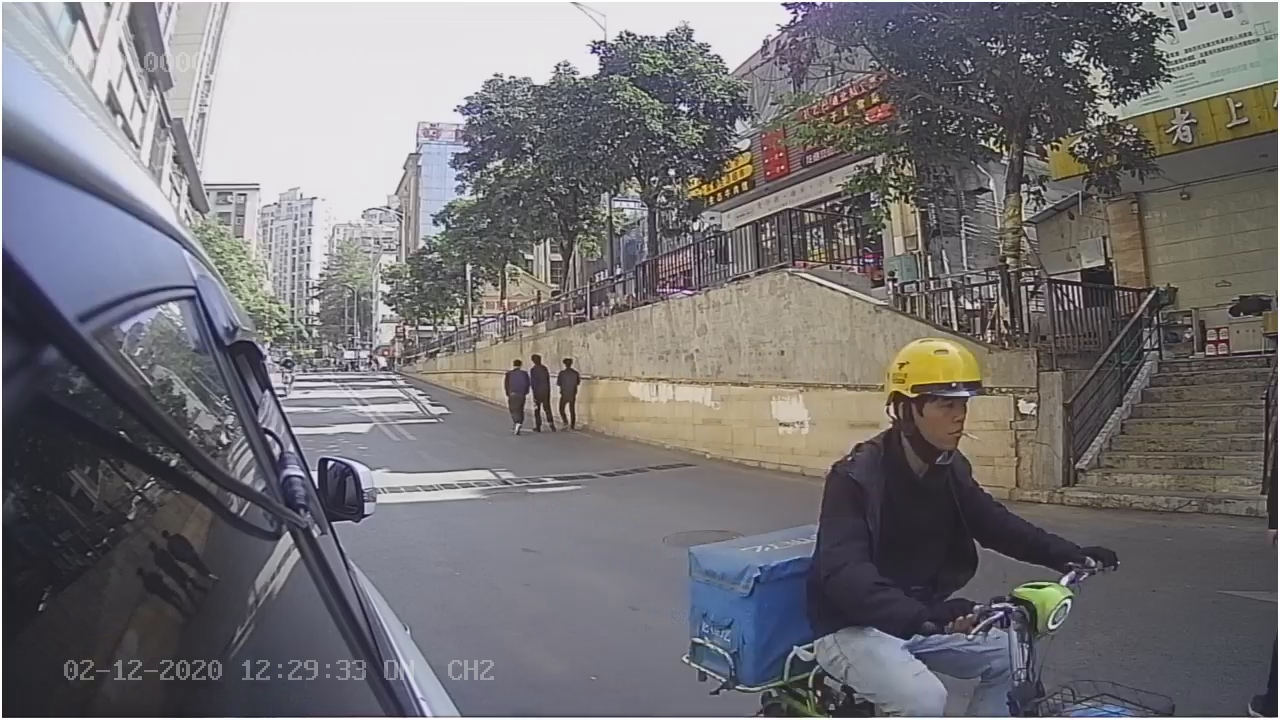person: (811, 327, 1117, 574)
